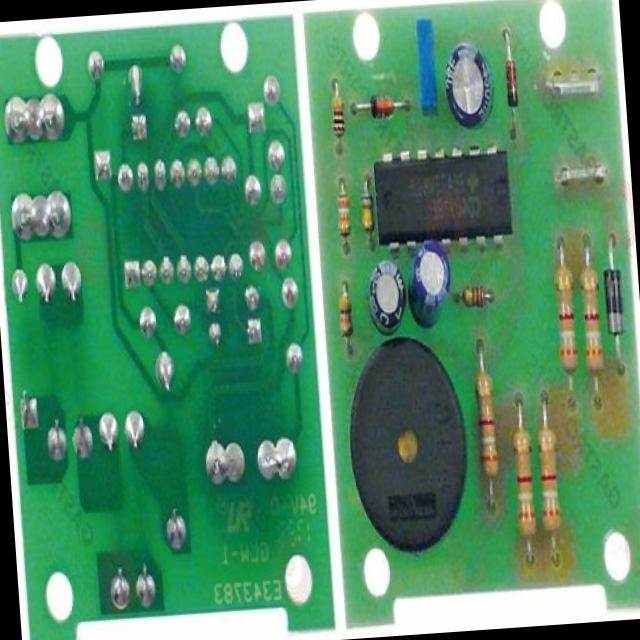IC: (371, 134, 512, 254)
capacitor: (438, 22, 496, 140)
diode: (598, 244, 626, 358), (500, 28, 525, 144), (354, 90, 406, 125)
potentiometer: (406, 5, 446, 130)
resistor: (550, 227, 584, 428), (576, 227, 606, 410), (472, 356, 500, 502), (507, 402, 535, 542), (536, 409, 564, 544), (321, 56, 353, 156), (331, 176, 355, 260), (333, 264, 357, 343), (356, 174, 374, 244), (459, 276, 491, 314)
